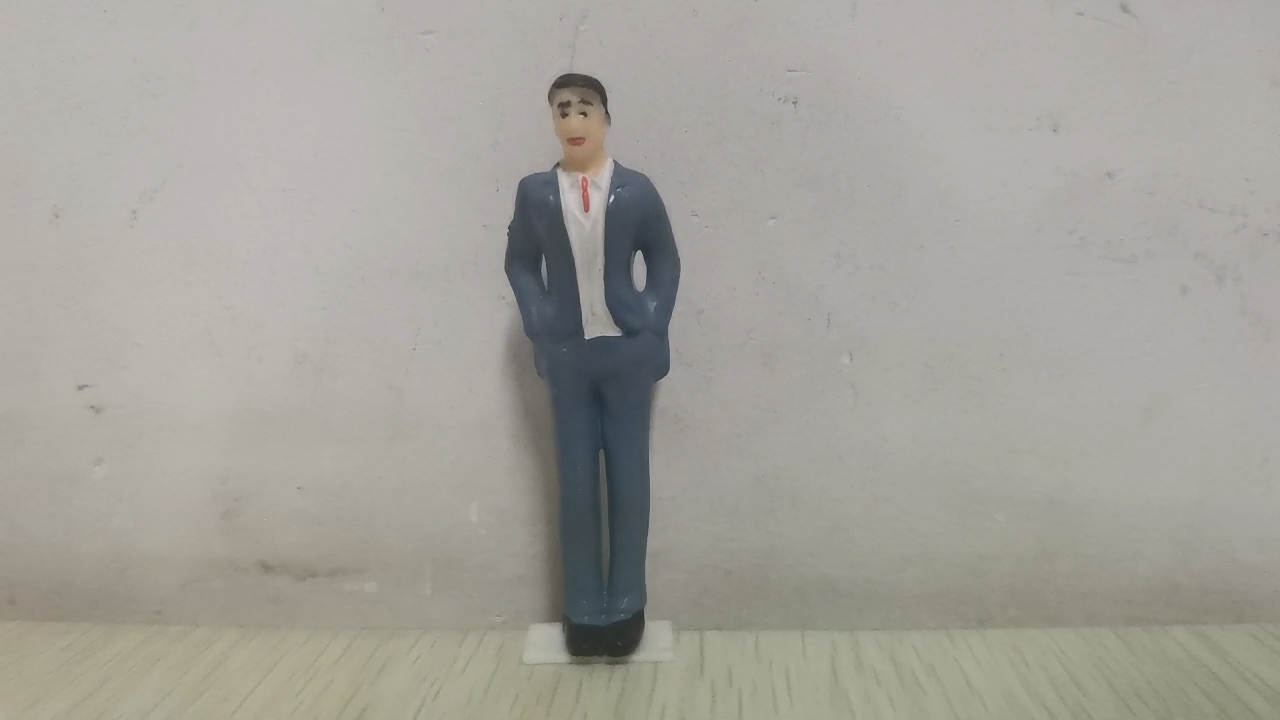person: (502, 70, 685, 657)
